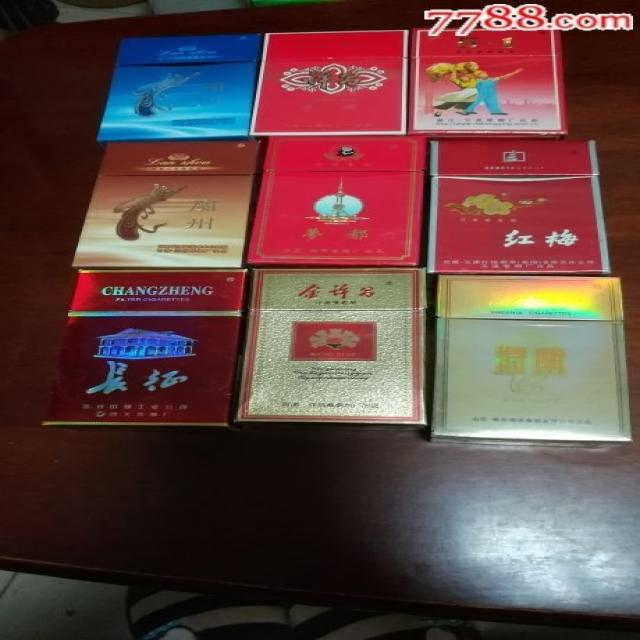box: (40, 269, 252, 432), (431, 275, 630, 448), (235, 267, 429, 431), (71, 140, 264, 270), (426, 140, 611, 275), (248, 136, 427, 269), (409, 26, 568, 140), (96, 32, 262, 141), (252, 29, 409, 136)
